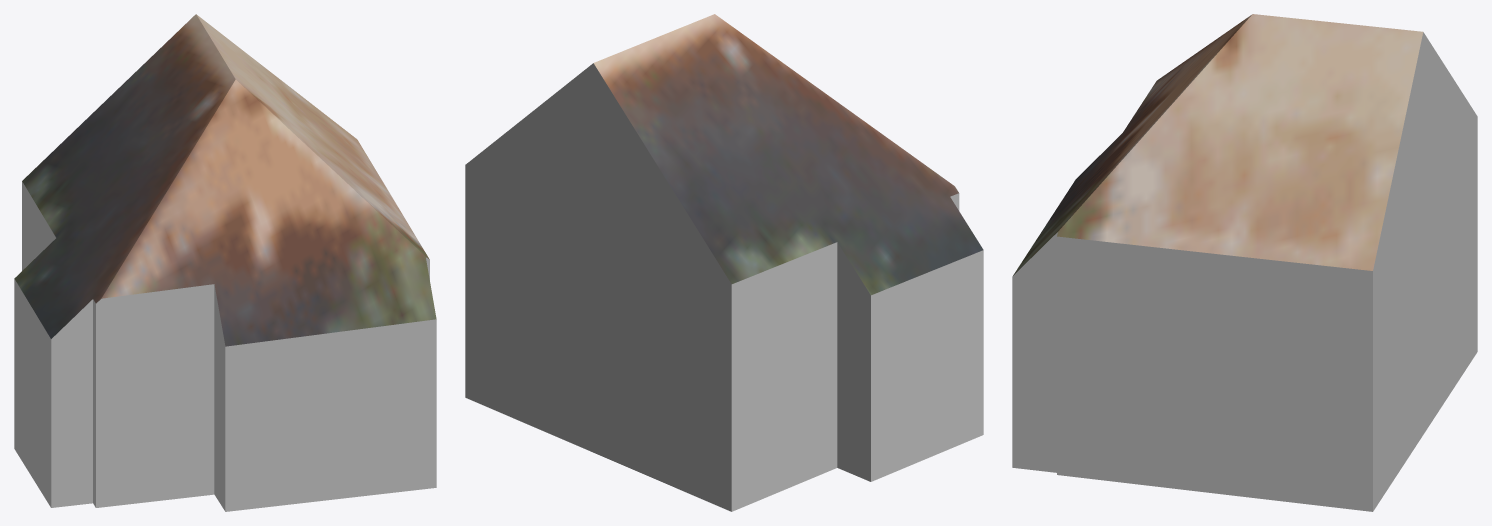
The model's file is DEBW_0010007Txj0.gltf.
3 views of the same model, side by side, from view 1: azimuth 30°, elevation 25°; view 2: azimuth 150°, elevation 25°; view 3: azimuth 270°, elevation 25° (orthographic). The views are drawn at different scales.
Parts seen in each view (by area): view 1: Z_UP; view 2: Z_UP; view 3: Z_UP.
Part boxes in pixels (box(x1,y1,x2,y2)): Z_UP: box(14, 14, 436, 511); Z_UP: box(465, 14, 983, 511); Z_UP: box(1012, 14, 1477, 511).
Size of the model in its own units: 15.56 by 13.57 by 14.19.
Materials: 2 (1 with a texture image).
